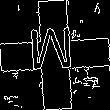M_S: (31, 29, 79, 81)
